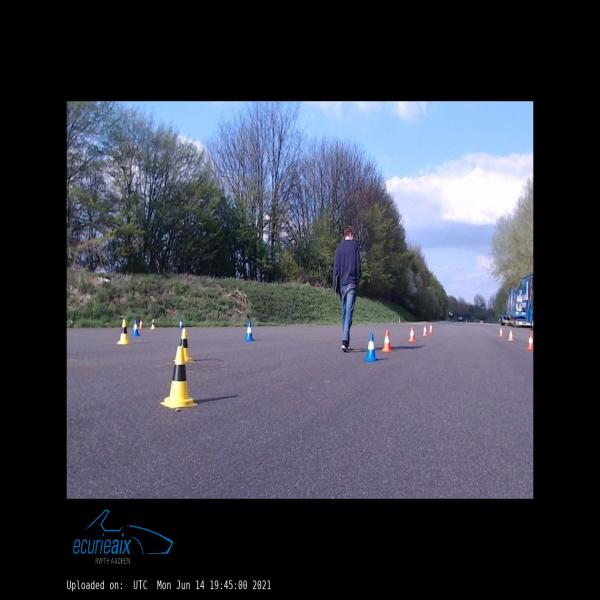blue_cone: (365, 334, 378, 361), (245, 322, 254, 341), (132, 320, 140, 335), (178, 319, 183, 329)
orange_cone: (382, 331, 393, 352), (409, 327, 416, 341), (527, 334, 533, 349), (508, 330, 514, 340), (138, 320, 144, 328), (423, 326, 428, 335), (499, 328, 503, 336), (429, 324, 432, 332)
yellow_cone: (161, 346, 197, 408), (174, 328, 192, 362), (116, 320, 130, 344), (150, 319, 156, 329)
